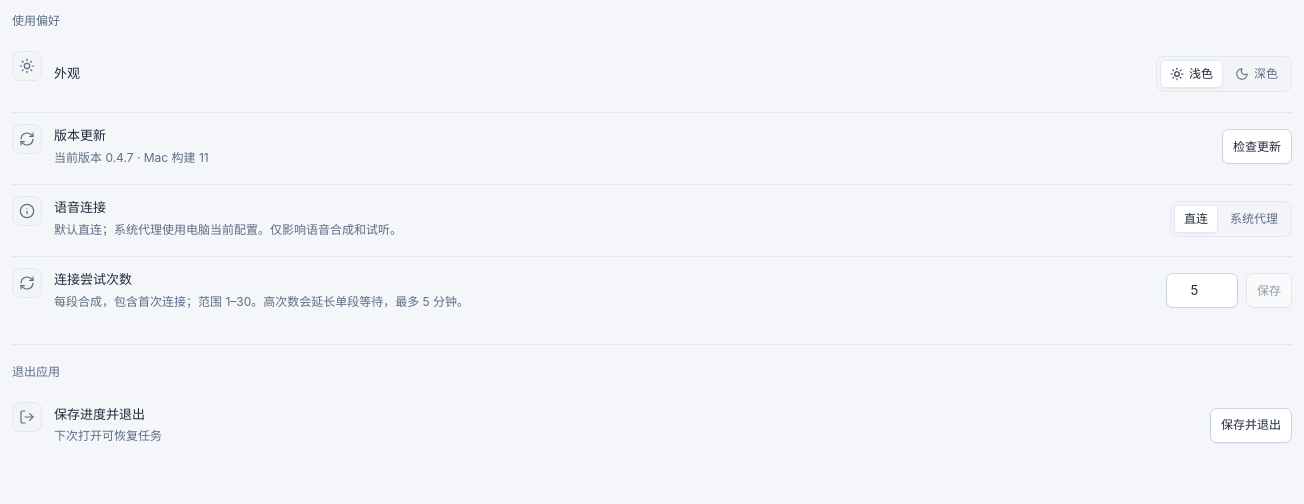
Scenario: keeps update failure visible inside the settings content
Click the button "检查更新" at (1257, 146), box [1222,129,1292,164]
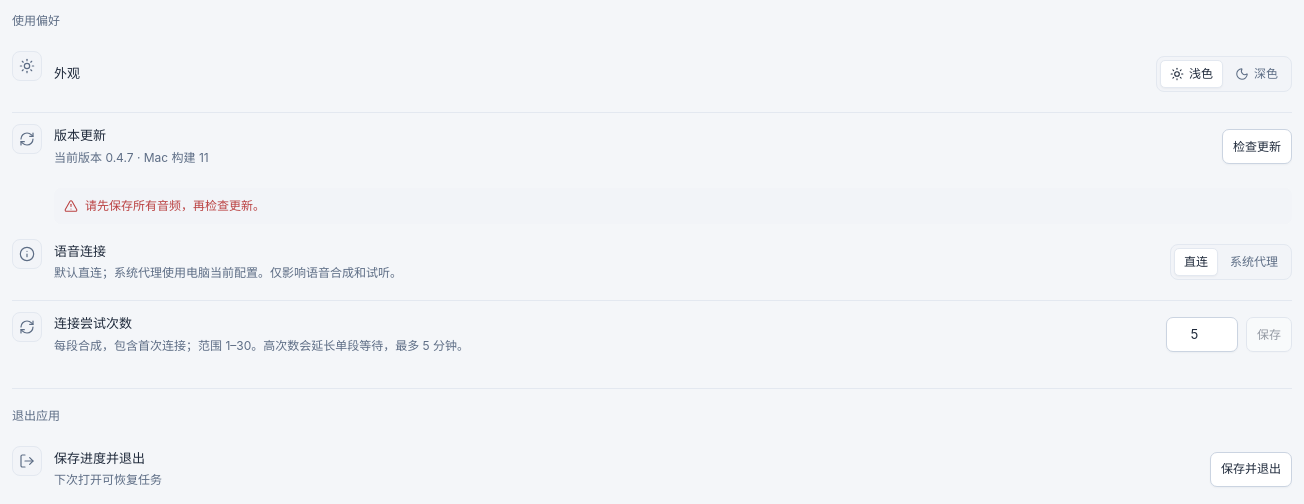
Check: the message reads "请先保存所有音频，再检查更新。", box [85,198,265,213]
